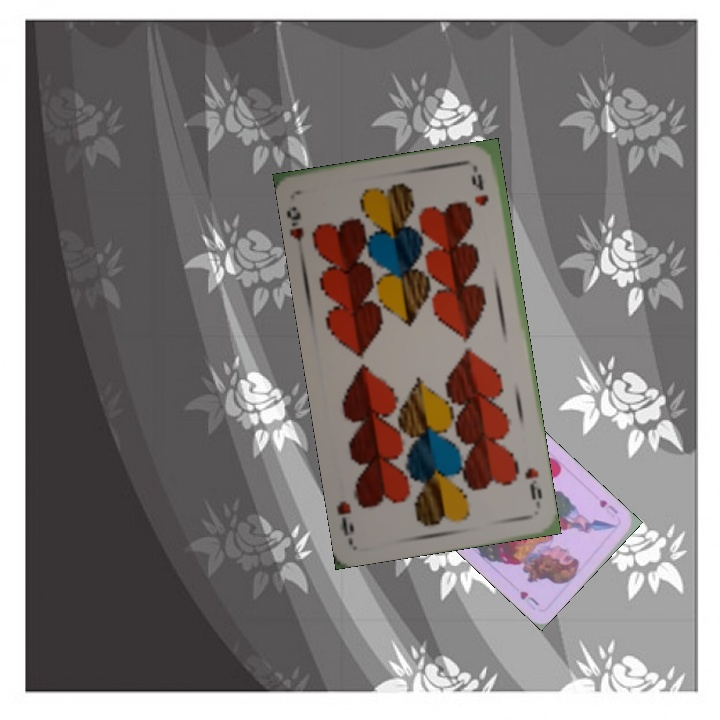H9: (521, 464, 545, 502), (285, 203, 306, 244)
HU: (595, 495, 621, 520)
